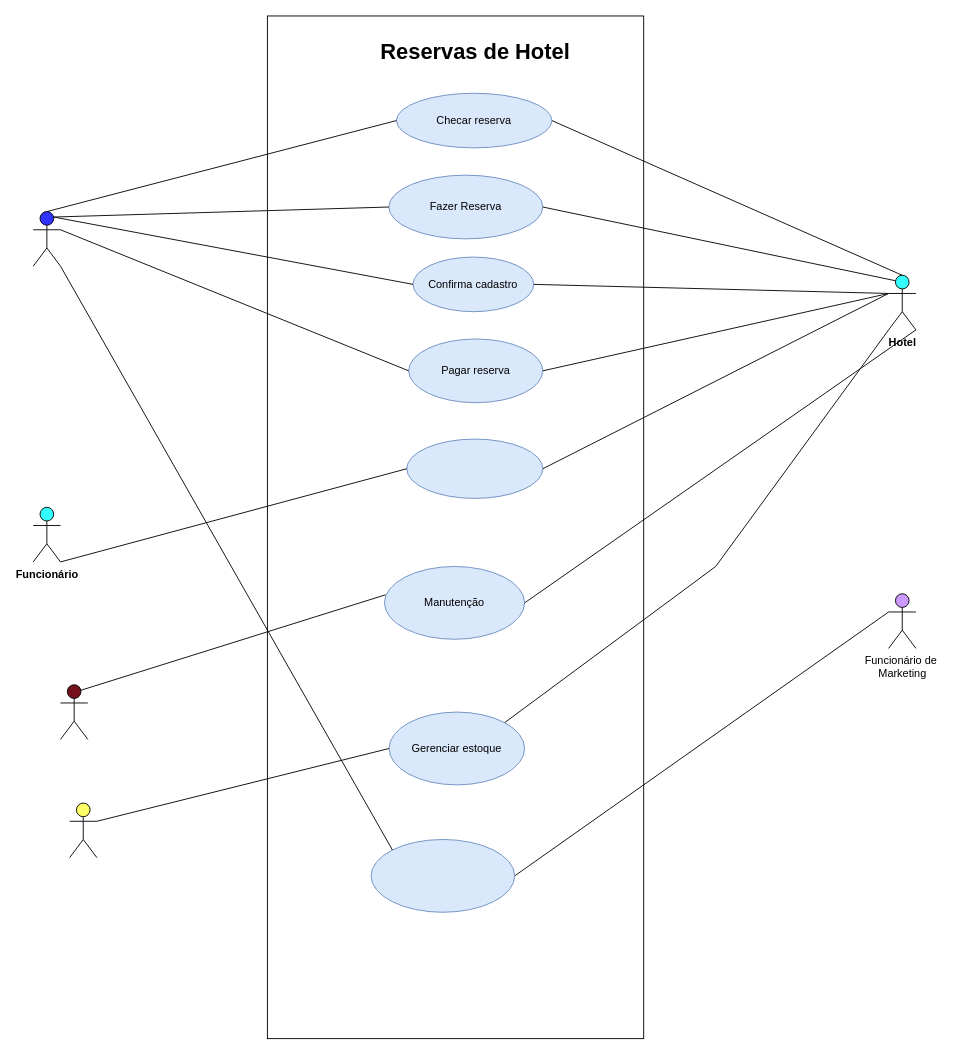
This 956x1055 diagram has some shape labels left out. The shapes that lost their labels are listed below. From the top down, each one's centre as x and y in pixels, then its label:
point 46,238: Cliente
point 474,468: fazer limpeza do hotel
point 74,711: Técnico
point 83,830: Funcionário de estoque
point 442,875: Gerenciamento proporções
